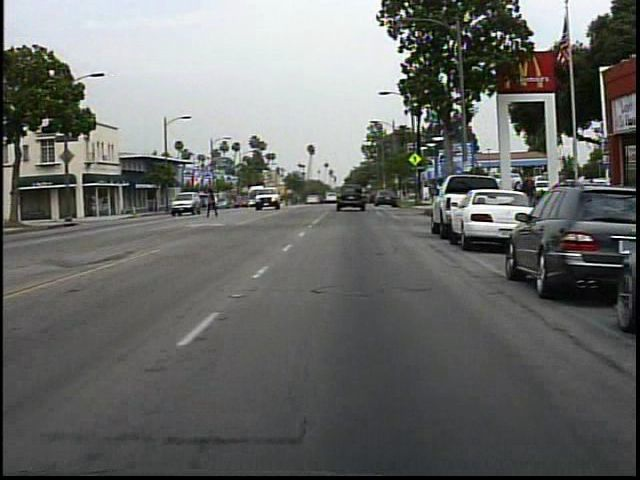person: (515, 169, 543, 226), (204, 185, 223, 221)
